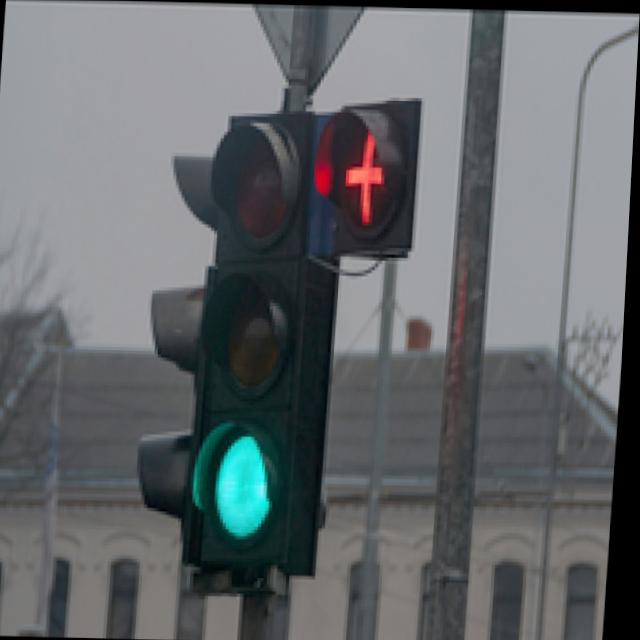green_light: (166, 414, 316, 555)
